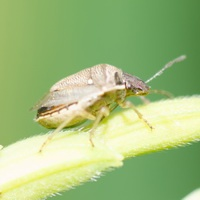insect: (31, 55, 185, 151)
